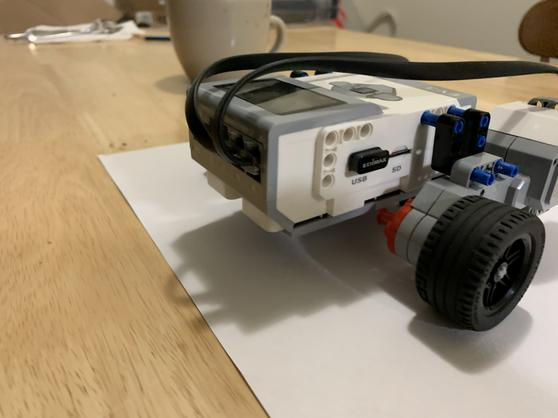robot: (181, 42, 558, 334)
